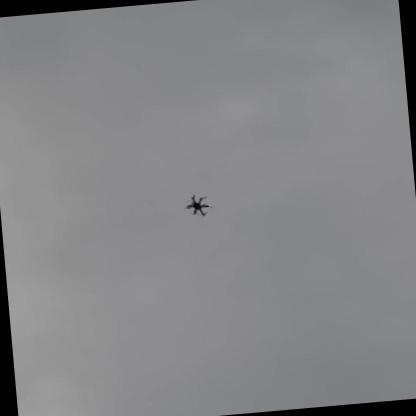drone: (179, 191, 217, 220)
